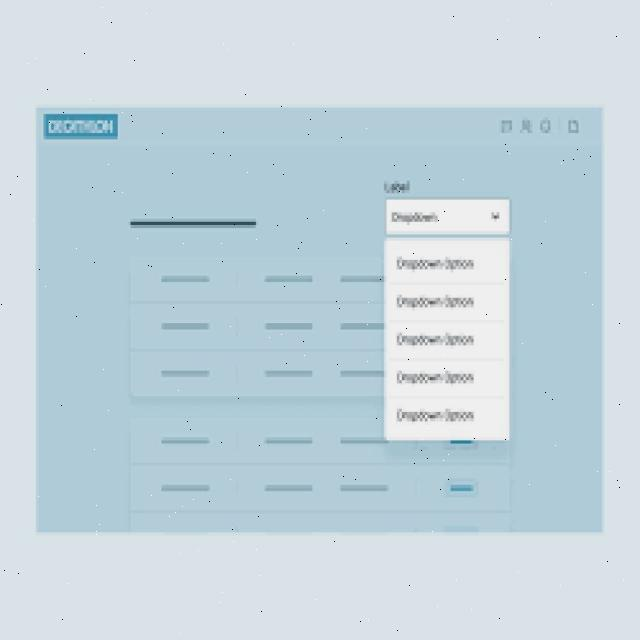button: (497, 116, 516, 136), (538, 116, 556, 136), (518, 118, 536, 136), (564, 118, 582, 136)
dropdownMenu: (386, 200, 511, 234)
